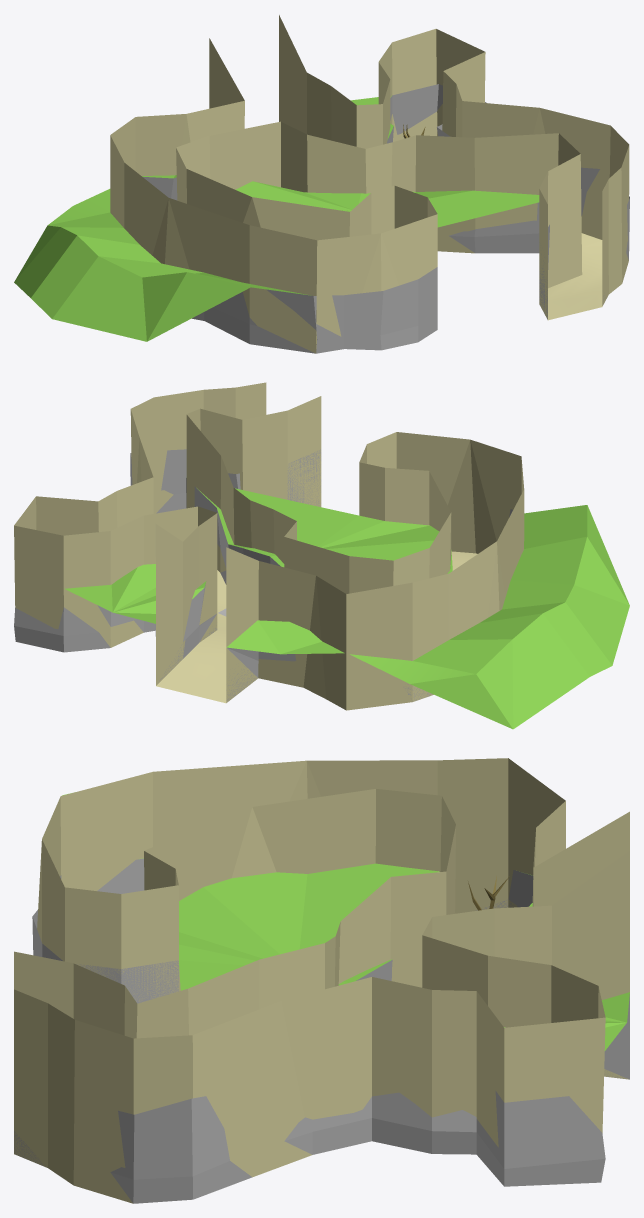
3 views of the same model, one above another, from view 1: azimuth 30°, elevation 25°; view 2: azimuth 150°, elevation 25°; view 3: azimuth 270°, elevation 25° (orthographic). The views are drawn at different scales.
Visible parts, largest first — view 1: simple, level27; view 2: simple, level27; view 3: simple, level27.
Part boxes in pixels (x1=…): simple: x1=110, y1=15, x2=629, y2=353; level27: x1=14, y1=84, x2=629, y2=353; simple: x1=14, y1=382, x2=524, y2=710; level27: x1=14, y1=449, x2=629, y2=729; simple: x1=14, y1=758, x2=629, y2=1203; level27: x1=14, y1=793, x2=629, y2=1203.
Bounding box in the file's own units: 53.46 × 16.95 × 38.65.
